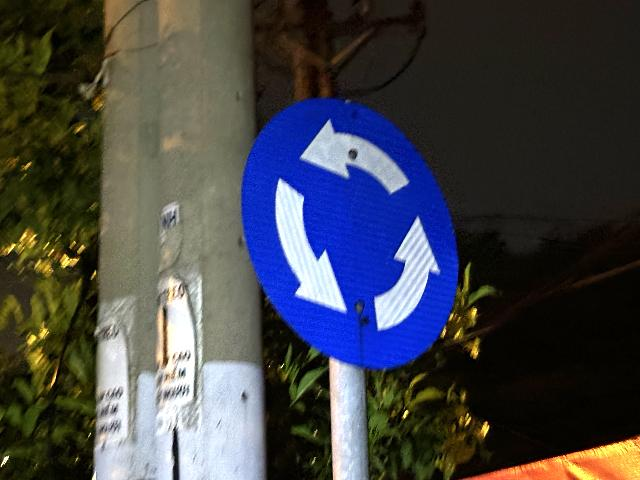noi-giao-nhau-chay-theo-vong-xuyen: (239, 96, 460, 370)
